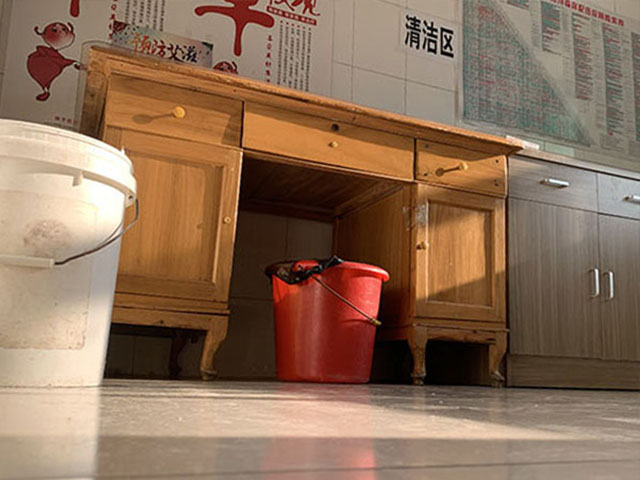cabinet: (80, 44, 516, 382), (510, 142, 640, 392)
trashcan: (261, 254, 394, 385)
